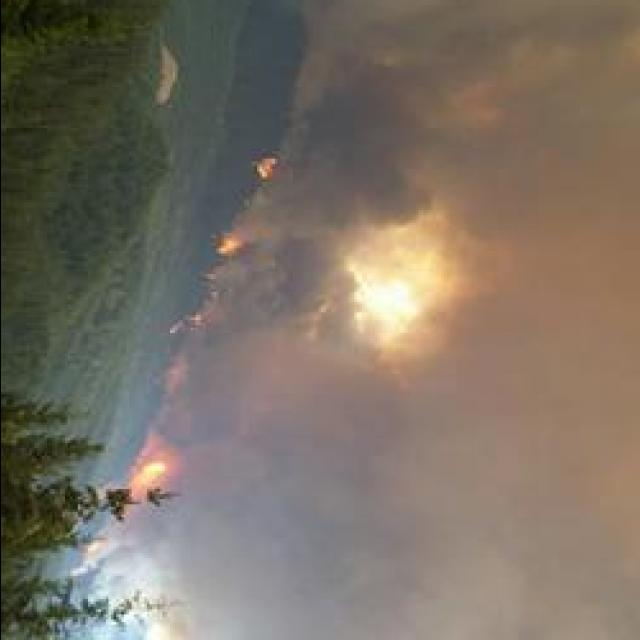fire: (140, 460, 166, 484)
smoke: (344, 0, 620, 181), (266, 338, 383, 628), (310, 72, 440, 250), (242, 212, 376, 370), (186, 339, 316, 475), (104, 516, 284, 602), (289, 105, 413, 169)
